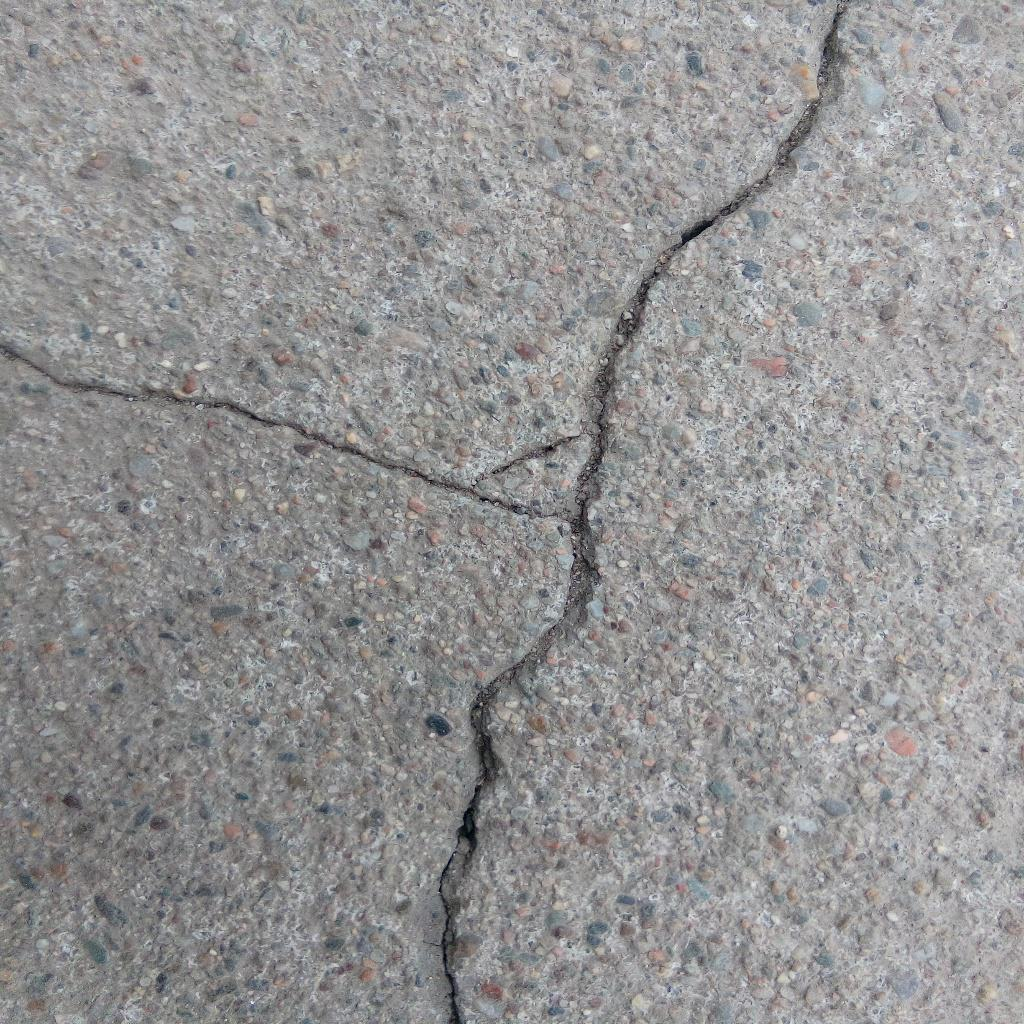Crack: (571, 1, 850, 523), (1, 341, 570, 523), (442, 523, 600, 1024)
